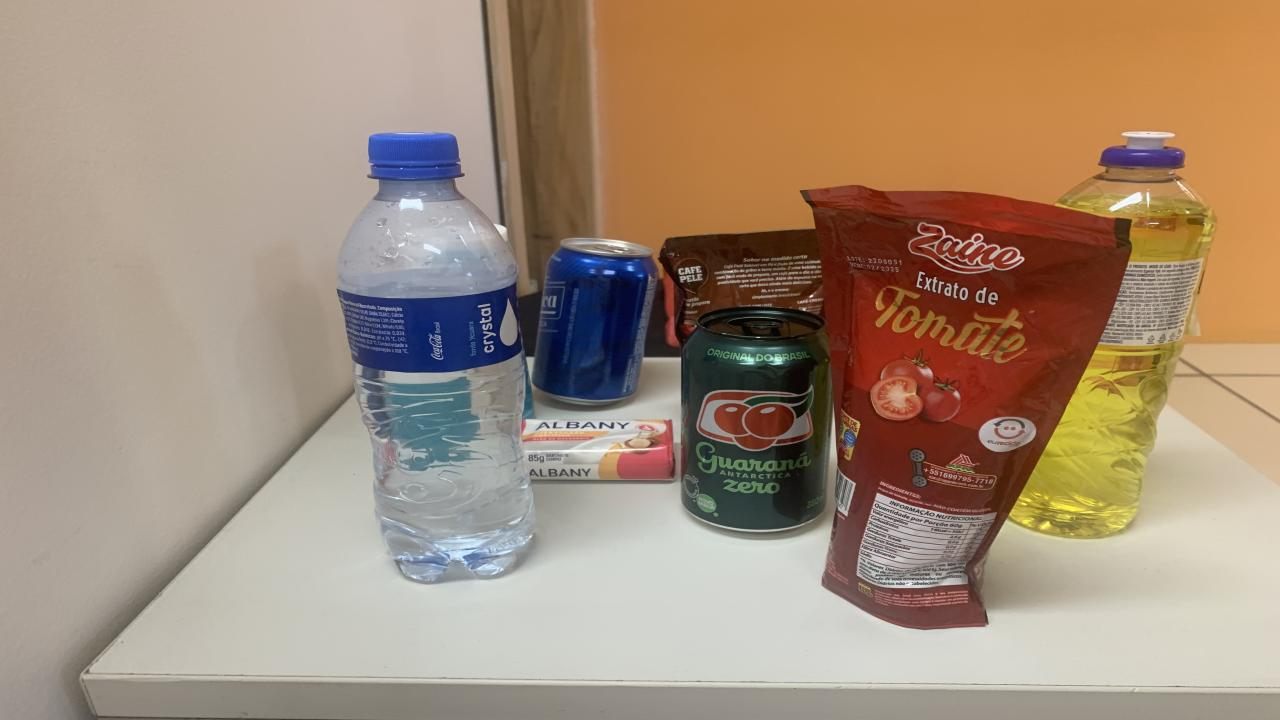Coffee-Pantry_Items: (660, 229, 822, 343)
Detergent-Cleanup_Items: (1010, 131, 1215, 538)
Guarana_Can-Drinks: (682, 308, 830, 531)
Soap-Cleanup_Items: (522, 418, 675, 480)
Tomato_Sauce-Pantry_Items: (802, 186, 1130, 628)
Tonic-Drinks: (532, 238, 658, 405)
Water_Bottle-Drinks: (338, 135, 535, 583)
